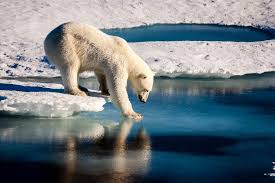PolarBear: (34, 18, 153, 123)
